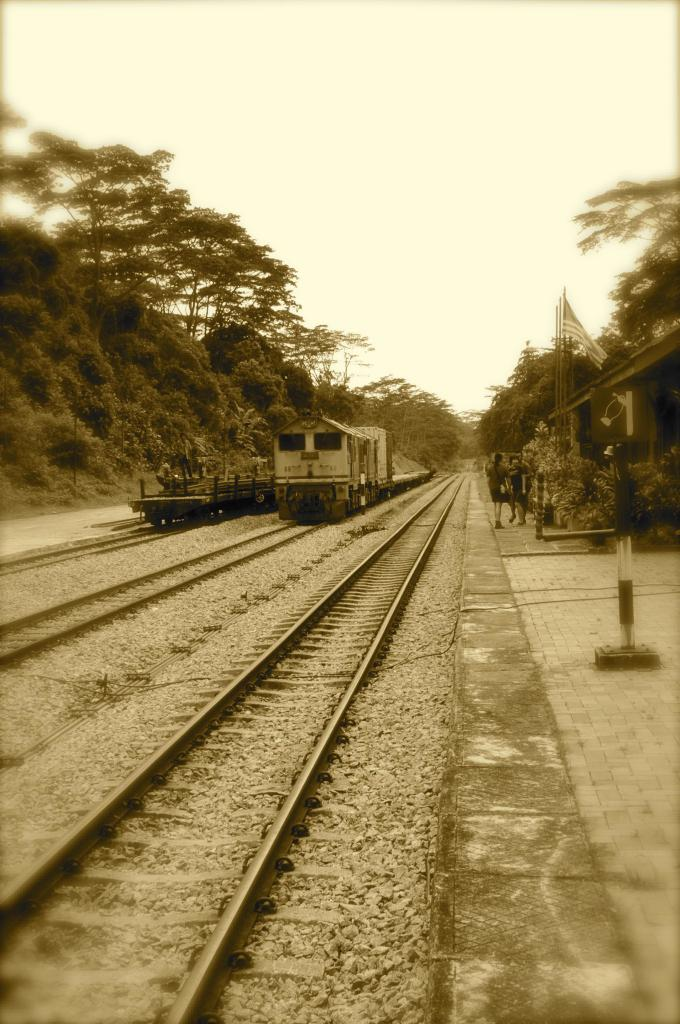train: (265, 406, 438, 523)
